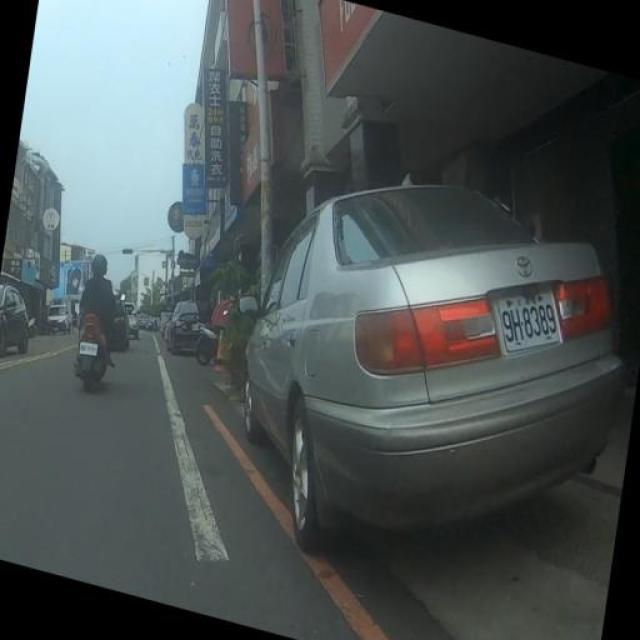illegalparking: (184, 164, 629, 552)
